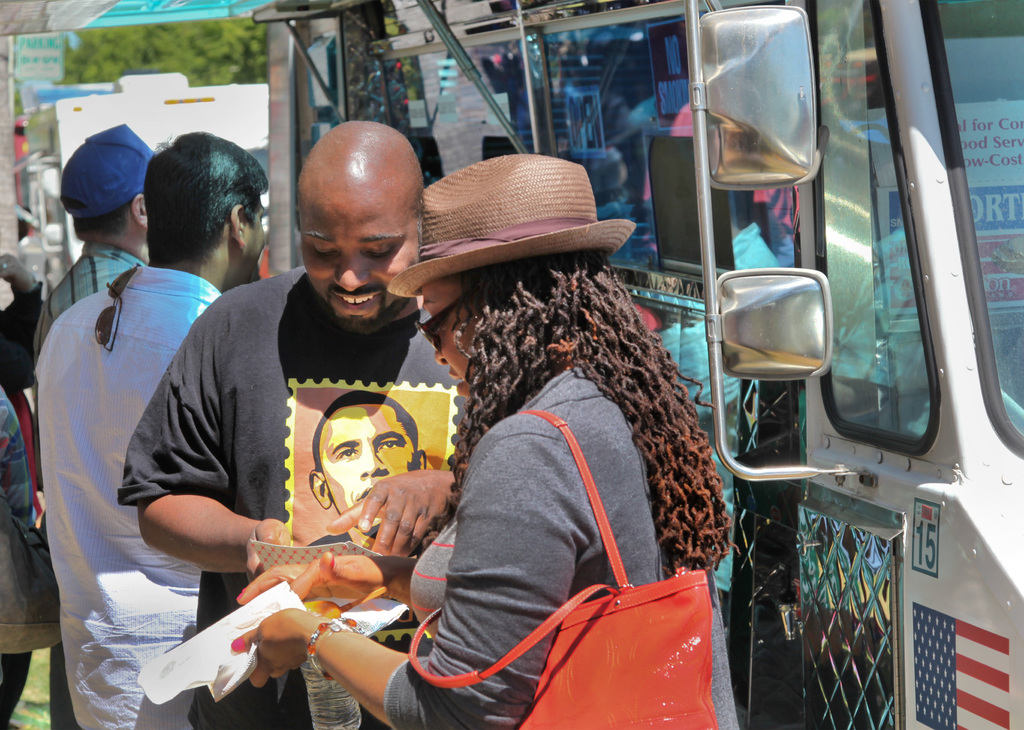Human-face: (303, 186, 420, 347), (315, 406, 420, 512), (425, 291, 477, 397)
